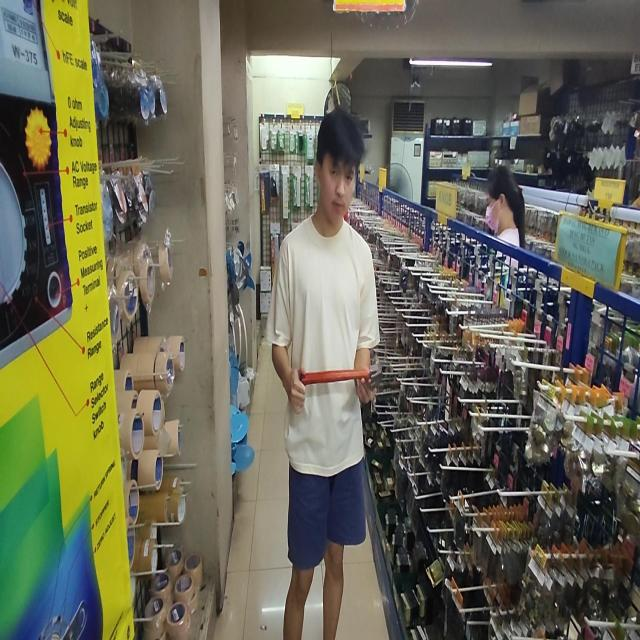hammer: (301, 354, 382, 390)
